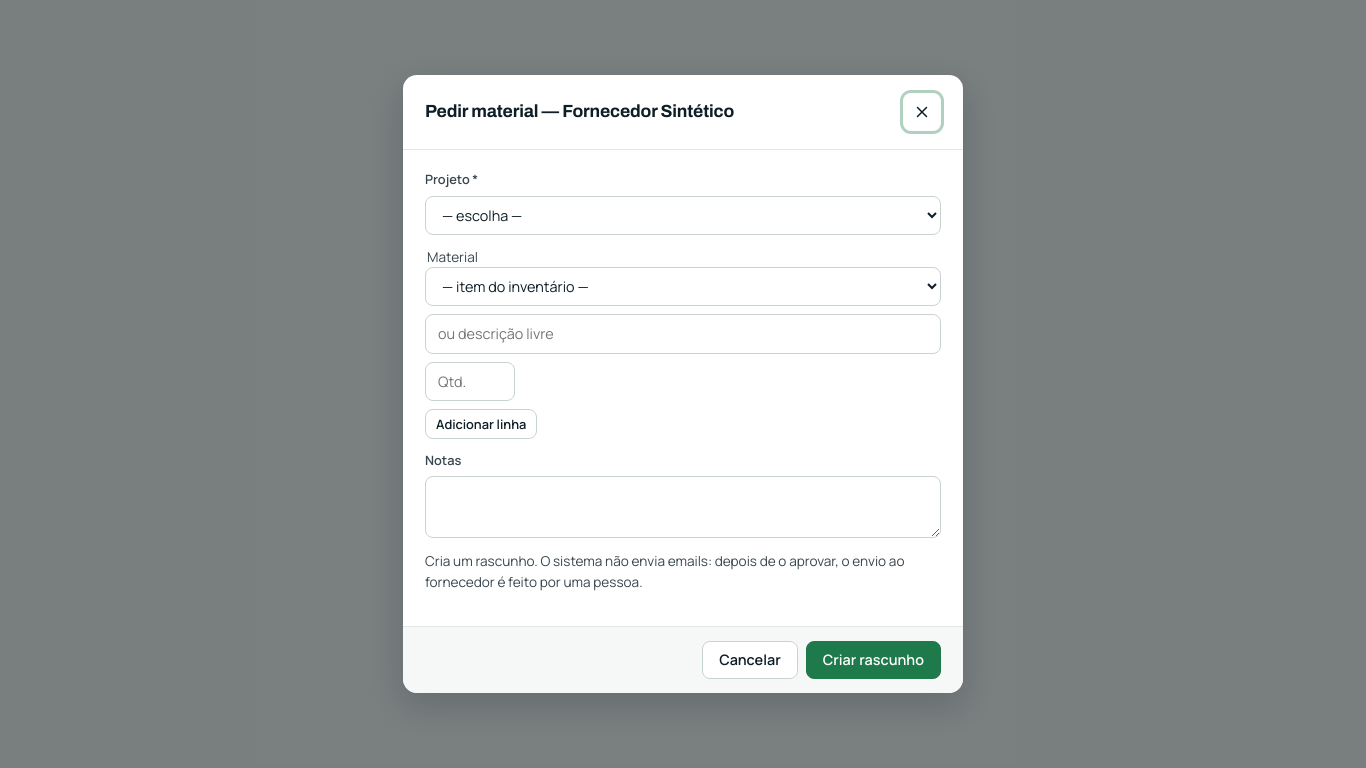
Scenario: Criar pedido de material › mostra a mensagem do servidor quando o pedido é recusado
Select "Instalação Sintética Um" in the dropdown labelled "Projeto *" at (683, 215), box [425,196,941,235]
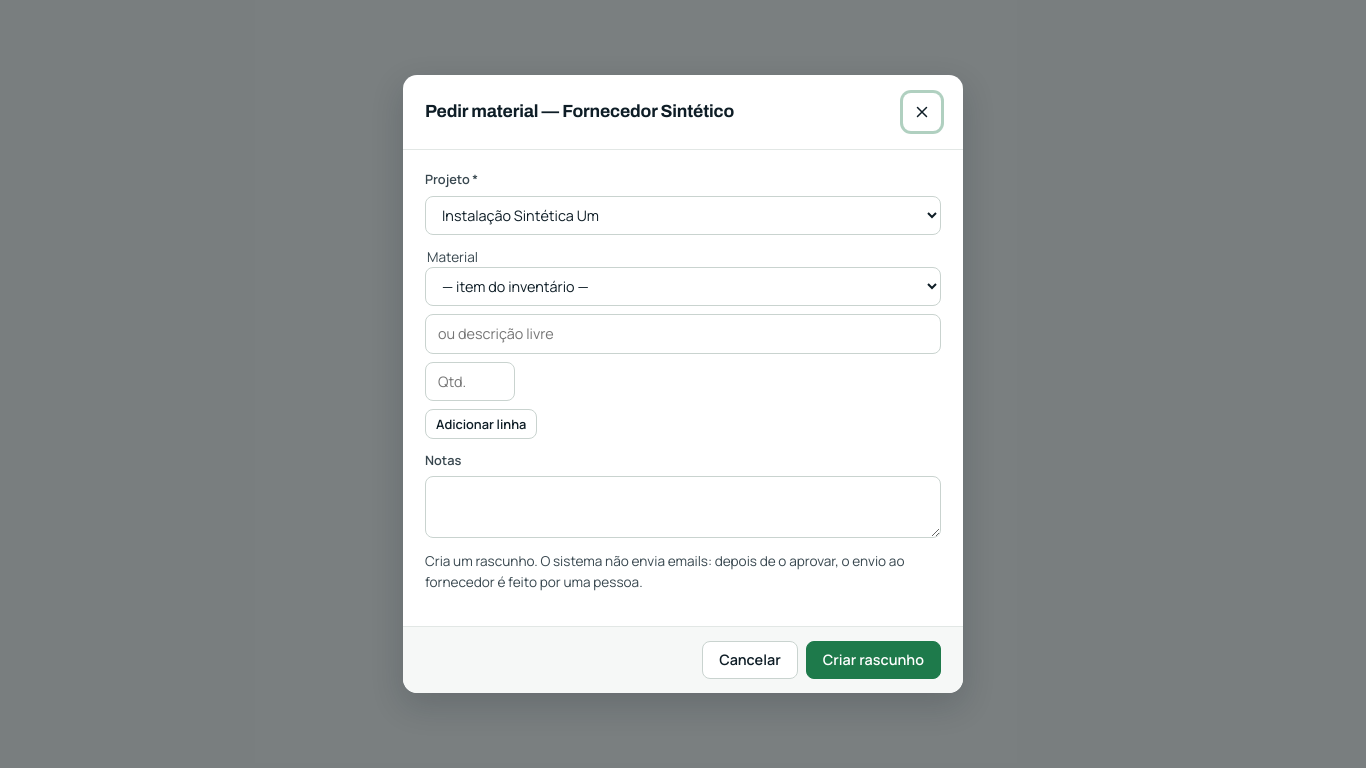
Type "Cabo" into the field named "Descrição da linha 1" at (683, 334), box [425,314,941,354]
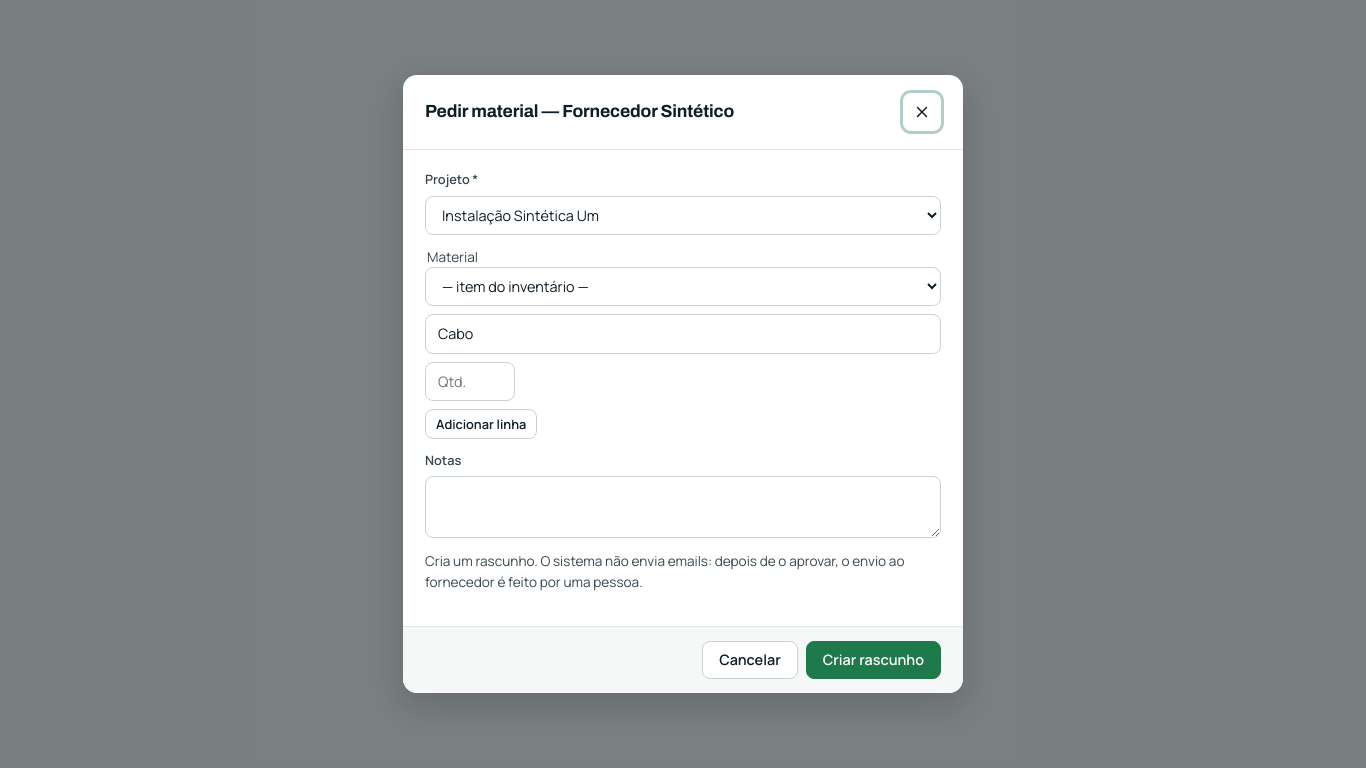
Type "3" into the number field named "Quantidade da linha 1" at (470, 381), box [425,362,515,401]
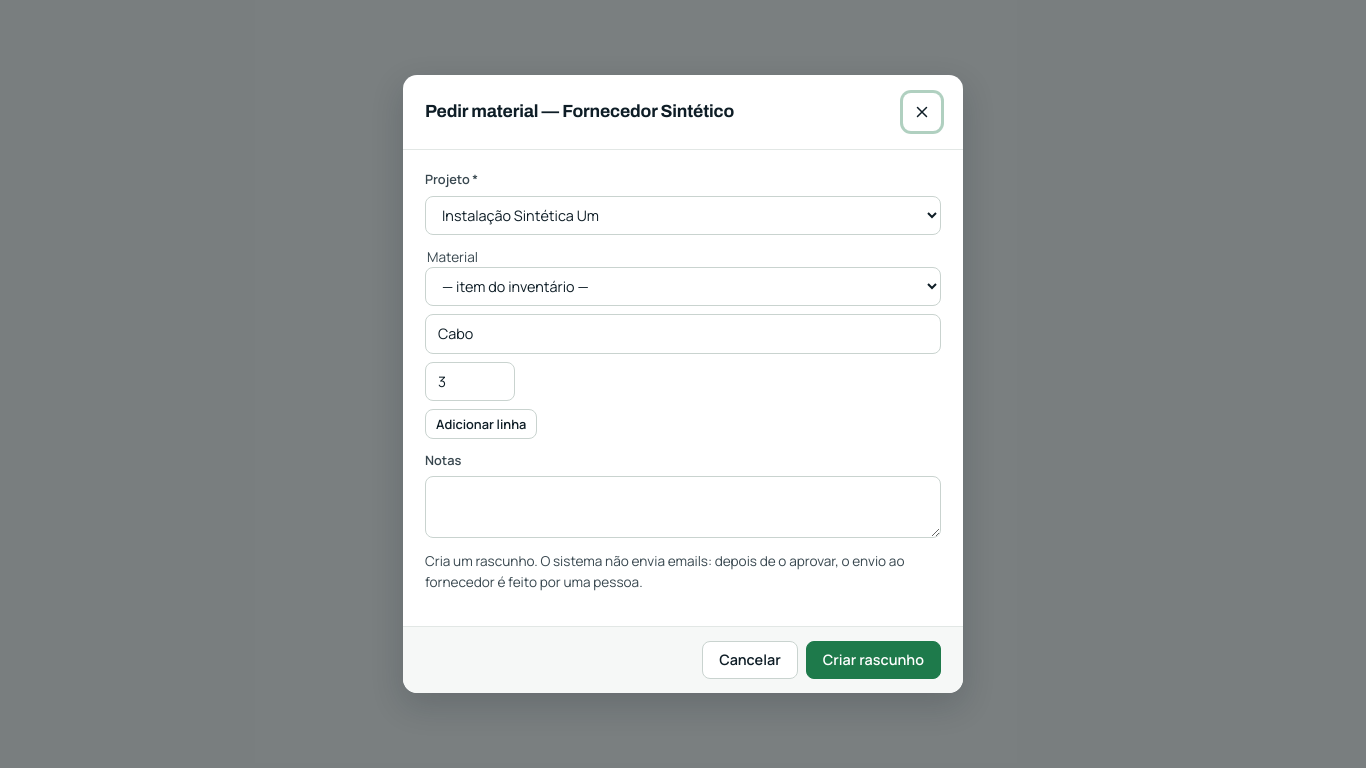
Click the button "Criar rascunho" at (873, 660), box [806,640,941,678]
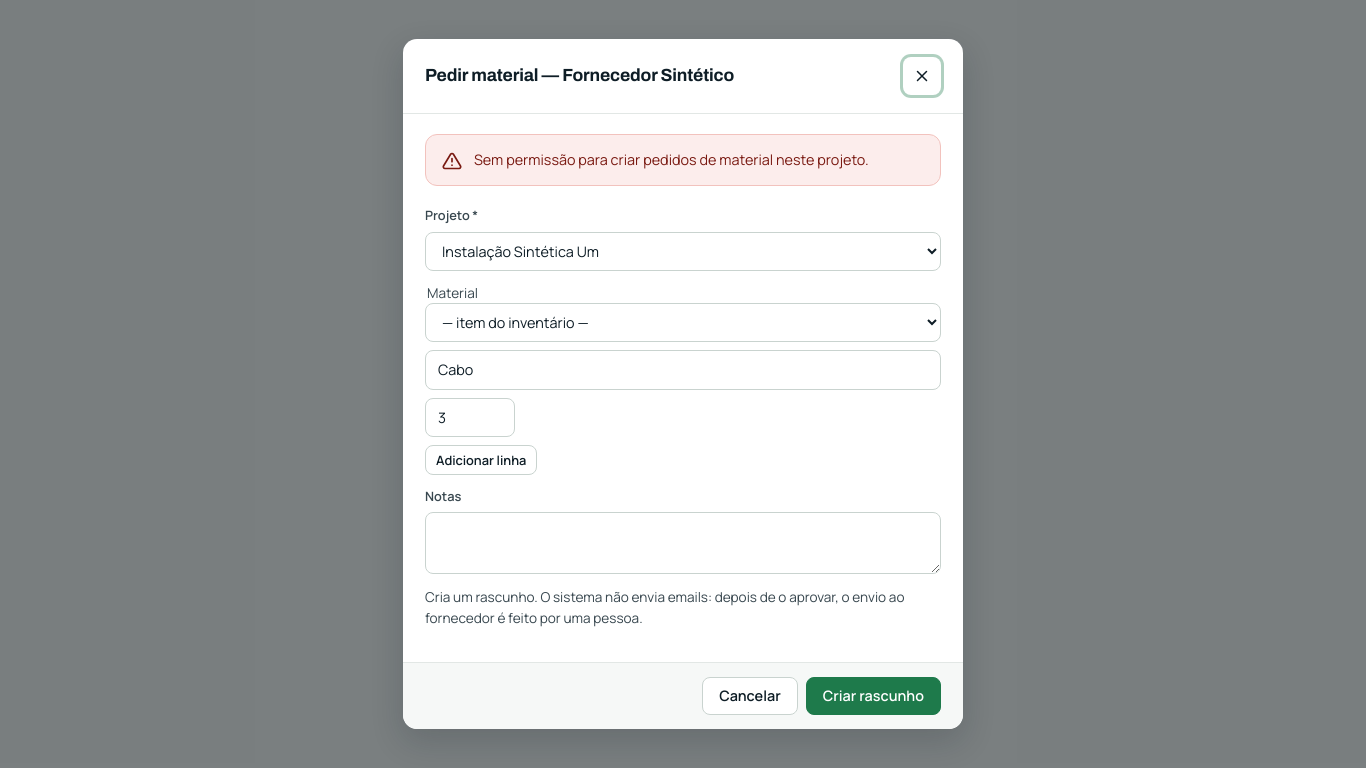
Result: the text "Sem permissão para criar pedidos de material neste projeto." is shown at [474,150,924,171]
